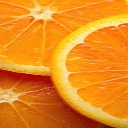orange: (46, 13, 128, 128)
